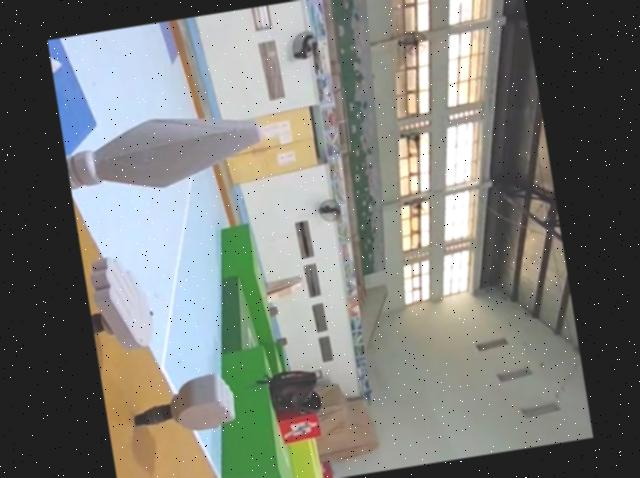Fist: (121, 368, 241, 443)
Hand: (82, 251, 160, 357)
Sph: (61, 100, 268, 203)
